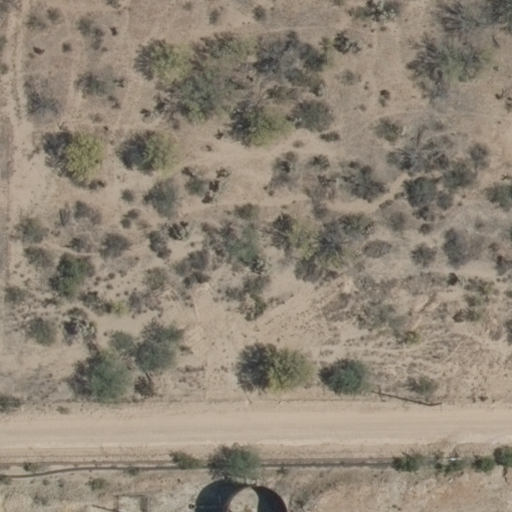DT: (422, 398, 449, 414)
